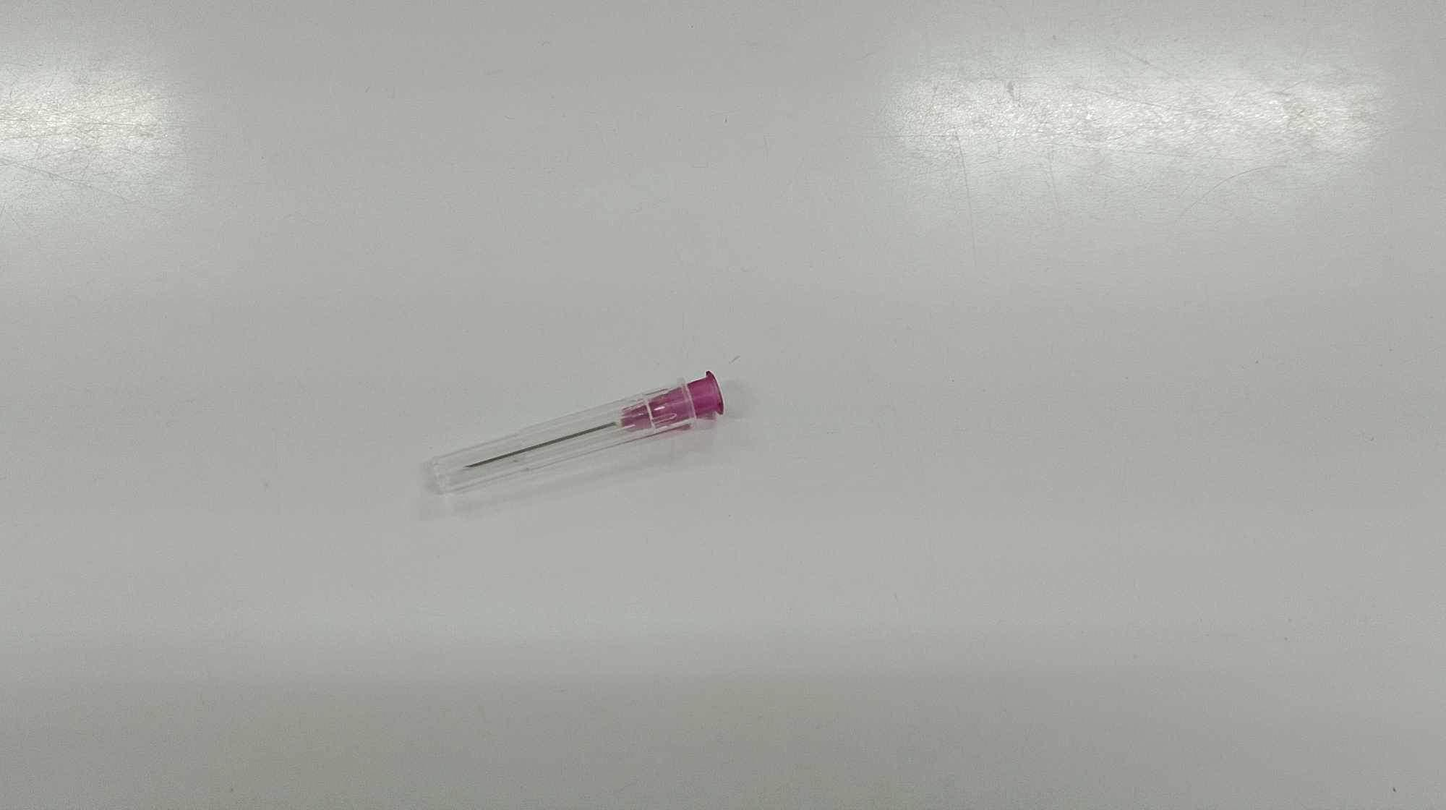General: (615, 368, 726, 438)
Sharps: (421, 367, 725, 496)
